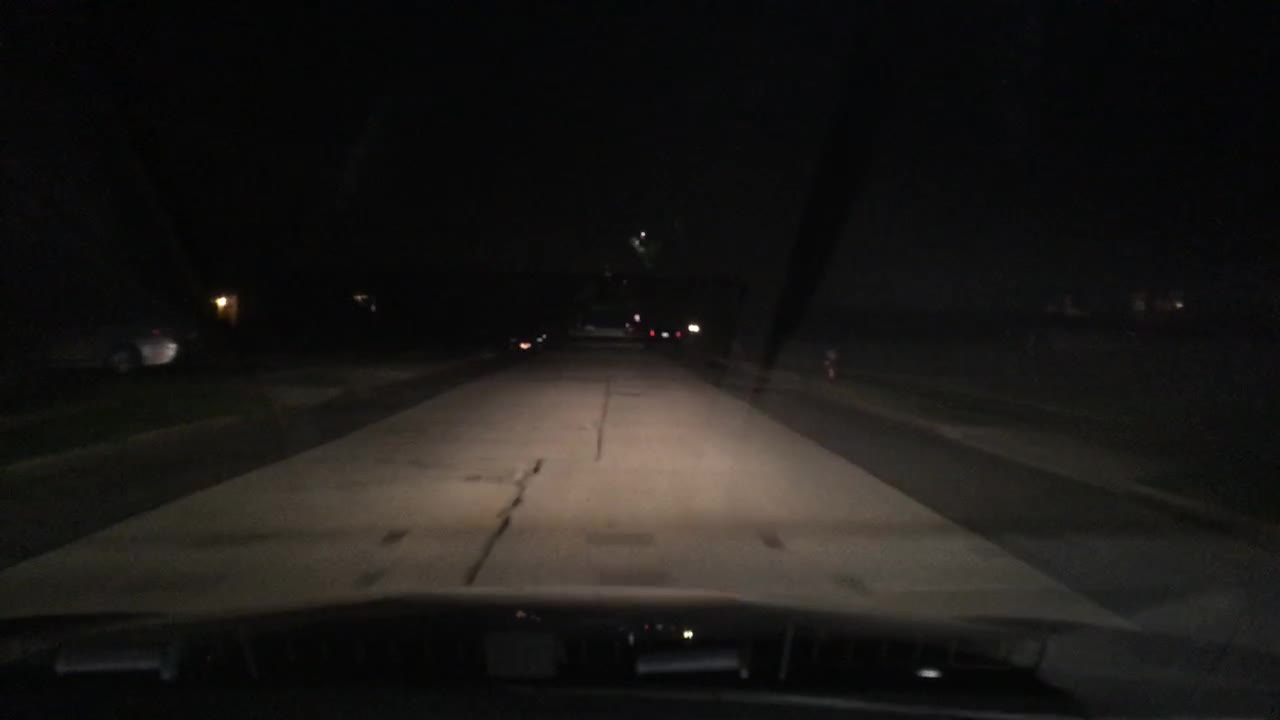car: (42, 307, 182, 370), (508, 329, 547, 353), (643, 321, 680, 346), (618, 307, 643, 334)
